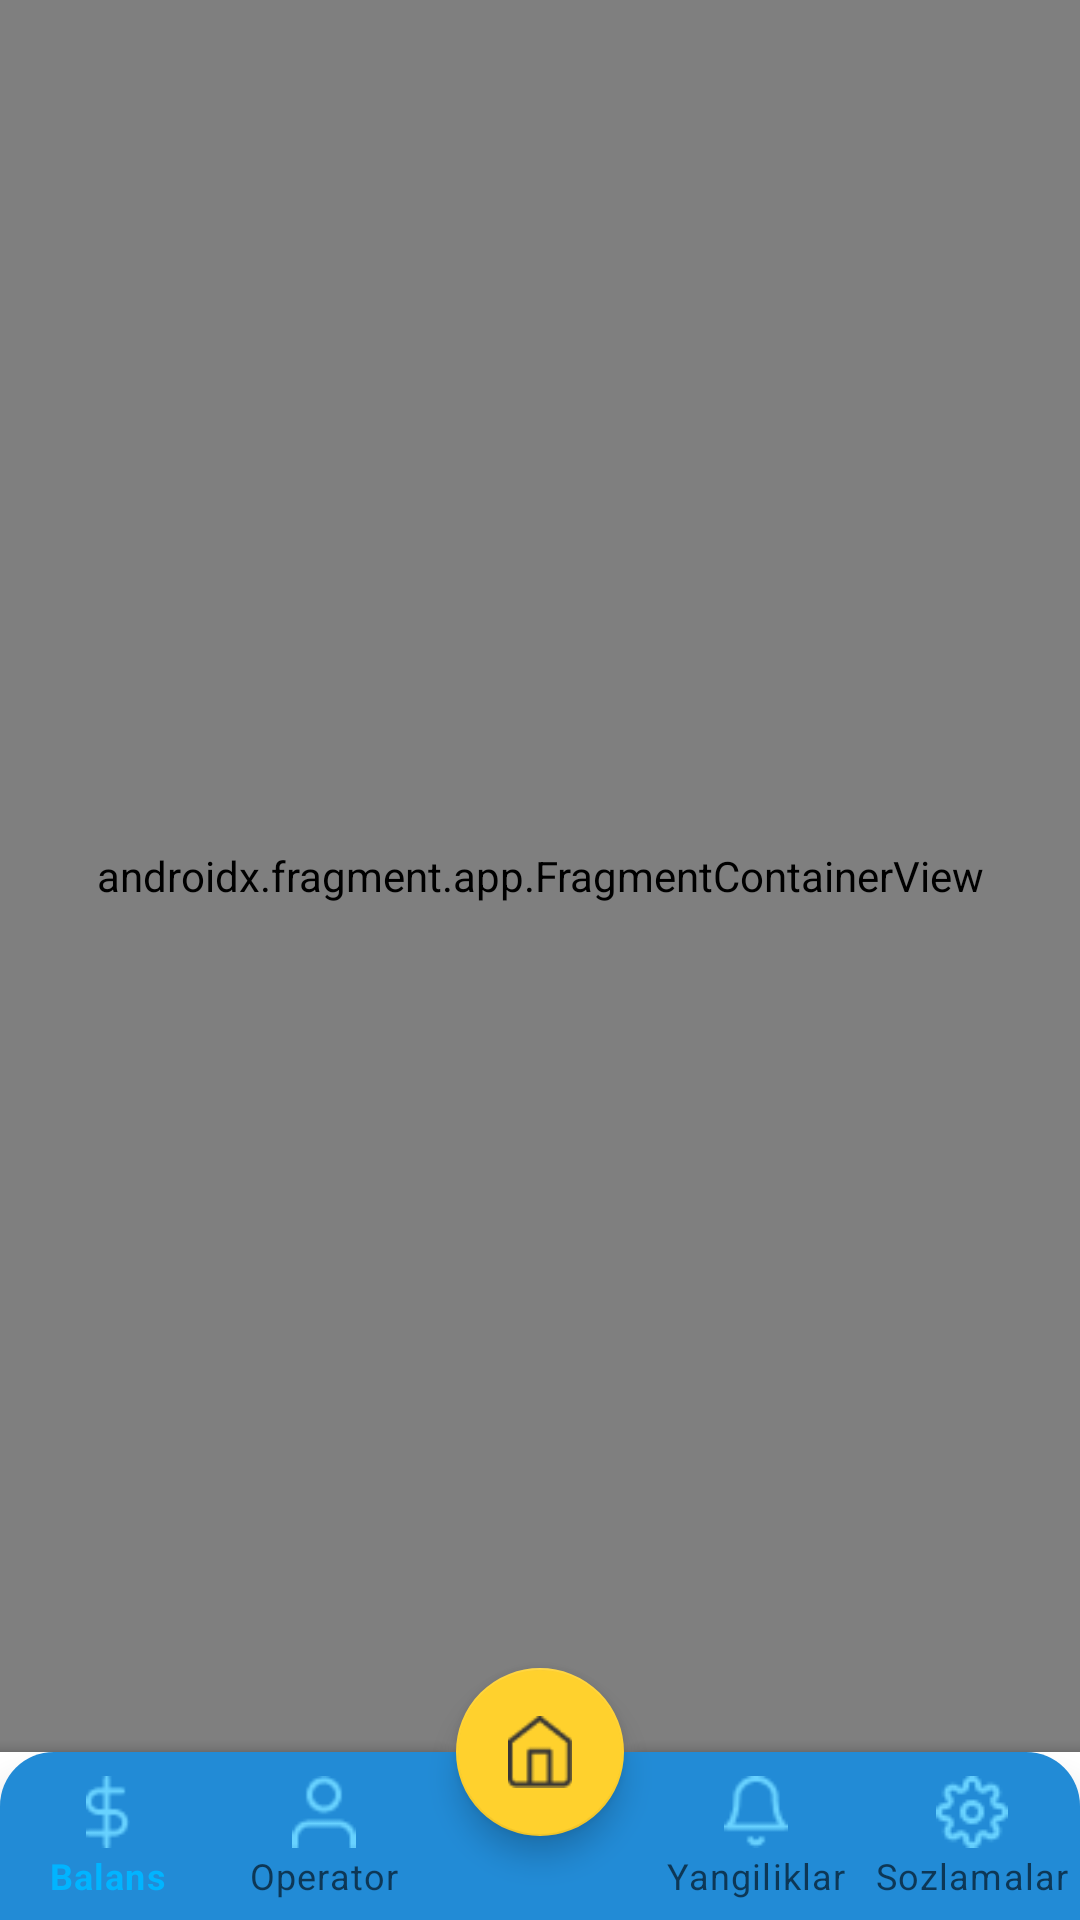

Named icons in this screenshot (1080 × 1920) and their centers, point (x, y):
home bottom: point (540, 1752)
